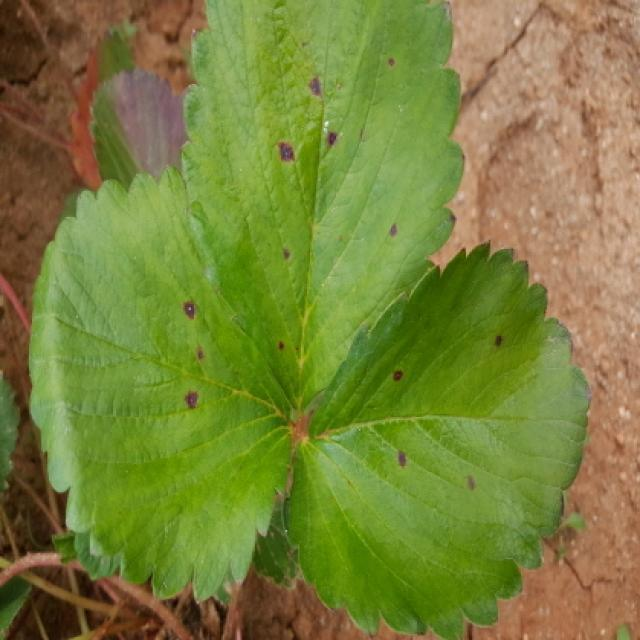Leaf Spot: (281, 239, 592, 638), (26, 162, 301, 604), (179, 0, 465, 420)
